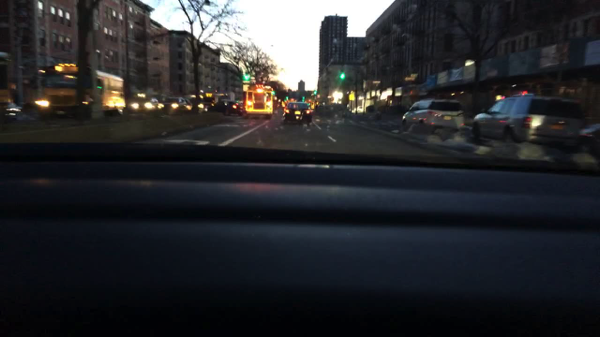bus: (39, 65, 123, 115), (244, 88, 274, 119), (227, 103, 243, 117)
car: (472, 95, 586, 147), (402, 100, 469, 136), (14, 99, 64, 123), (580, 122, 599, 155), (283, 103, 312, 124), (129, 96, 162, 113), (161, 96, 191, 114), (1, 100, 20, 121), (211, 100, 233, 114), (203, 96, 214, 111), (196, 97, 206, 113), (353, 105, 363, 114)
traffic light: (244, 72, 249, 81), (340, 71, 344, 78)
traffic sign: (349, 93, 354, 101)
truck: (0, 52, 15, 121)
